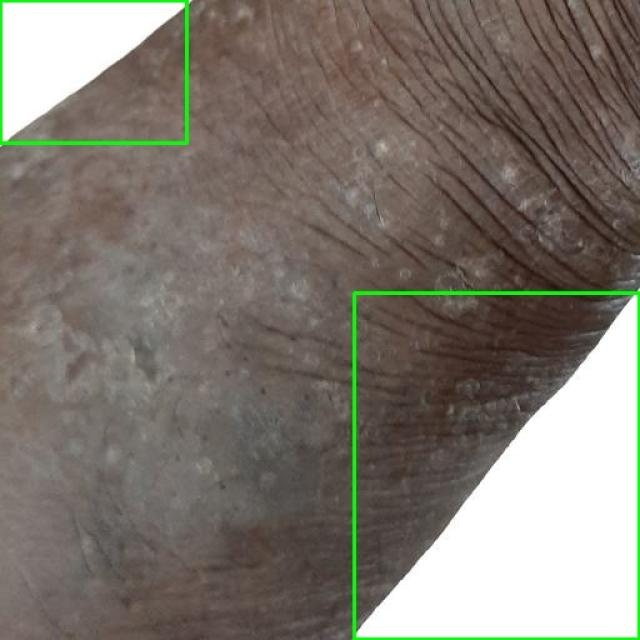Contact Dermatitis: (354, 292, 639, 639), (0, 0, 186, 142)
